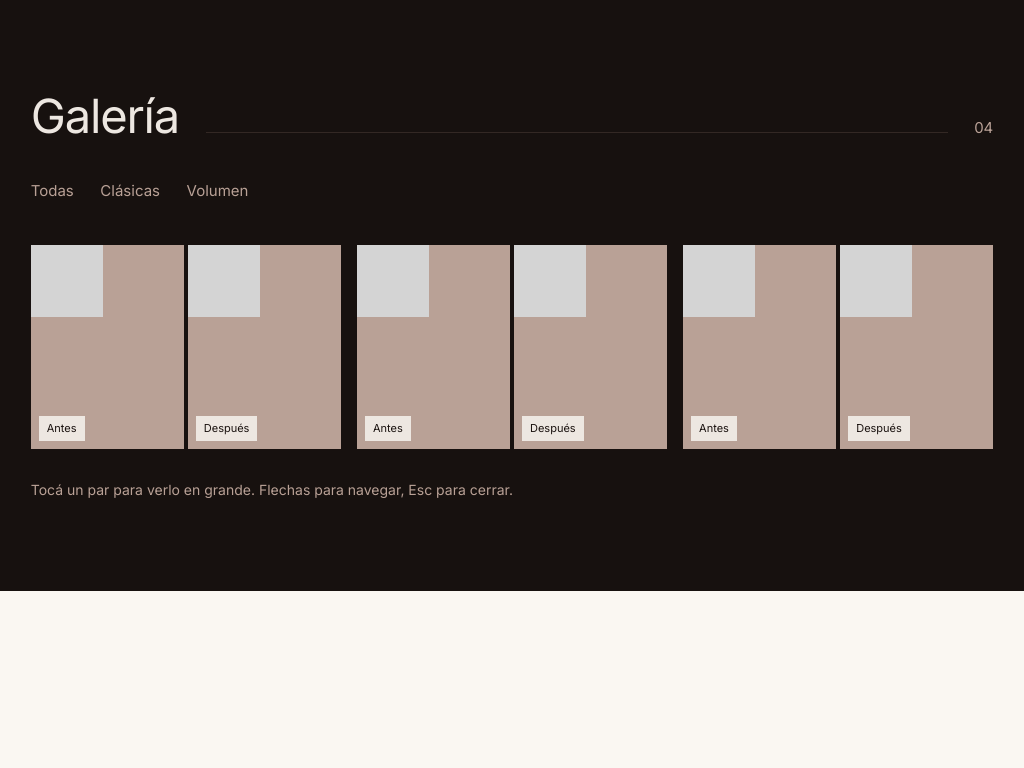
Test: LandingGallery — US-LAND-03 › "Cerrar" cierra la galería ampliada
The image size is (1024, 768).
Click the 1st button "Antes Después": (186, 347) 31,245 -> 341,449
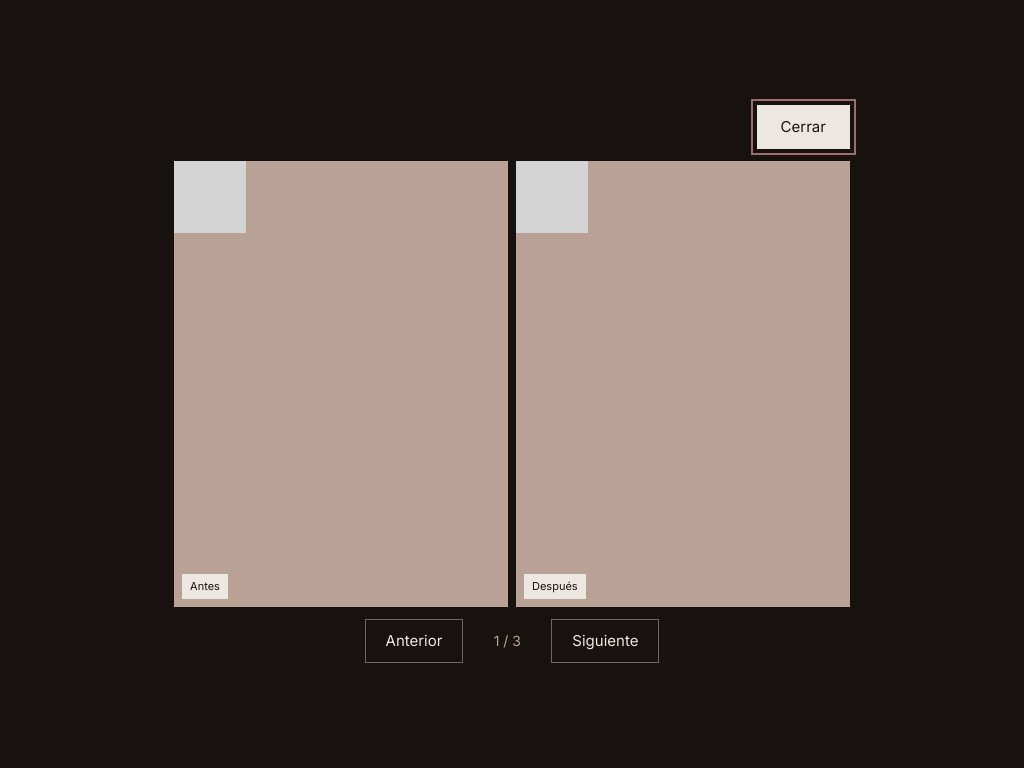
Click the button "Cerrar": (803, 127) 757,105 -> 850,149
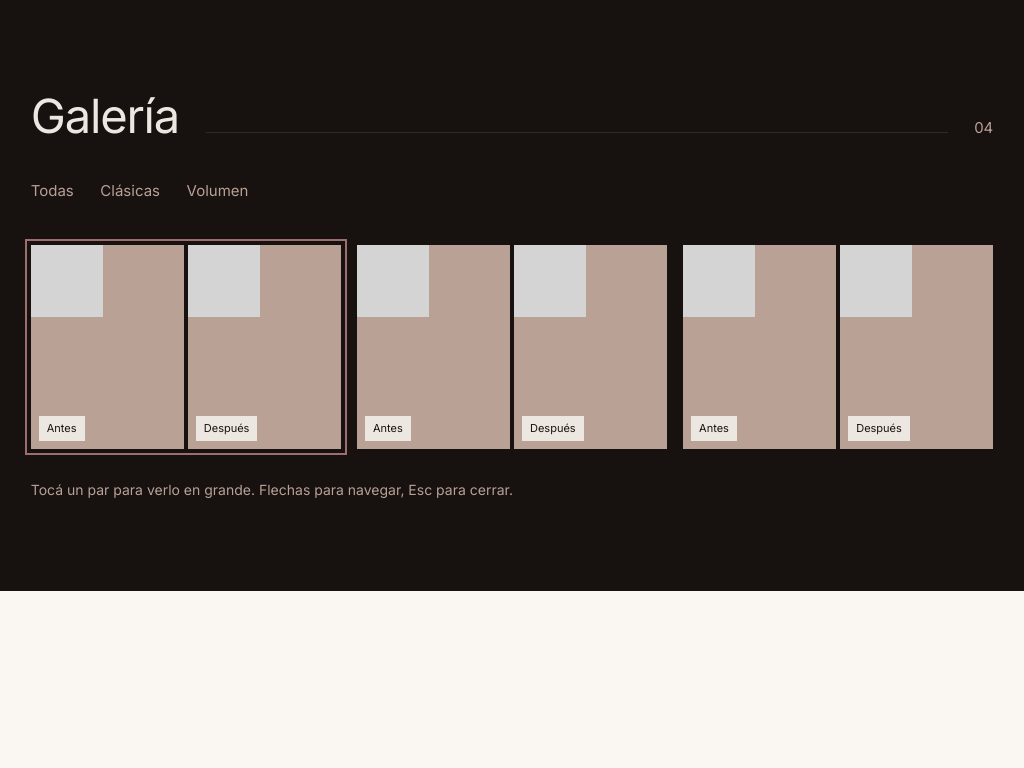
Result: the dialog is gone
